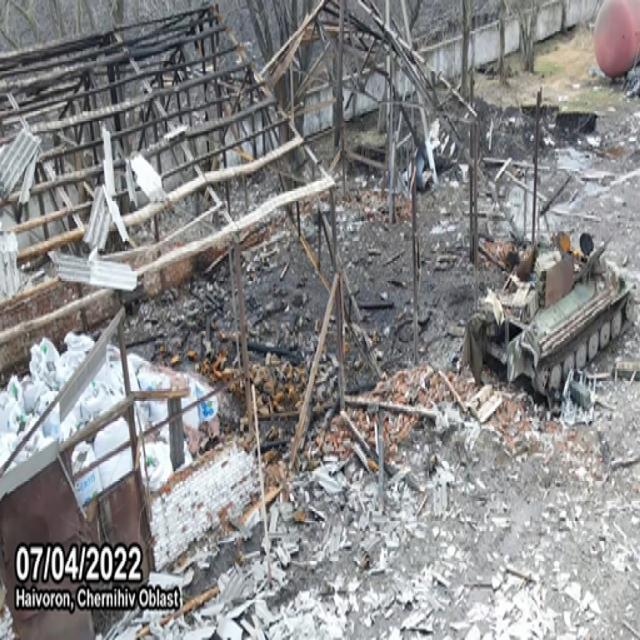APC-IFV: (461, 226, 635, 406)
